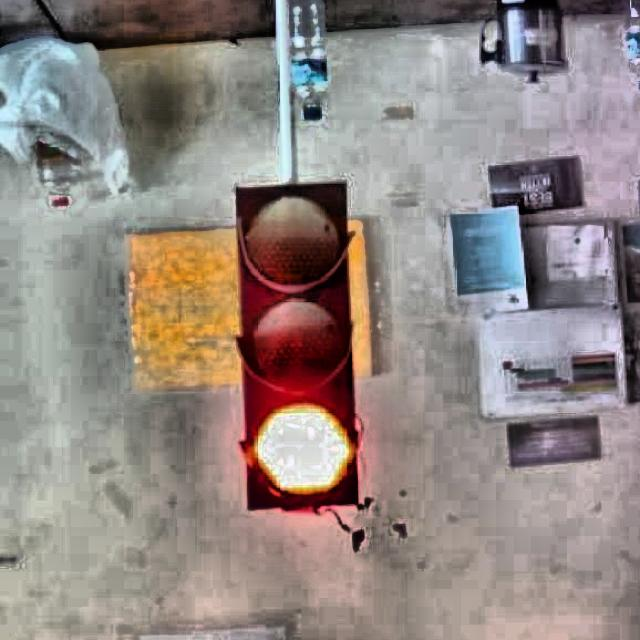red: (232, 178, 368, 513)
